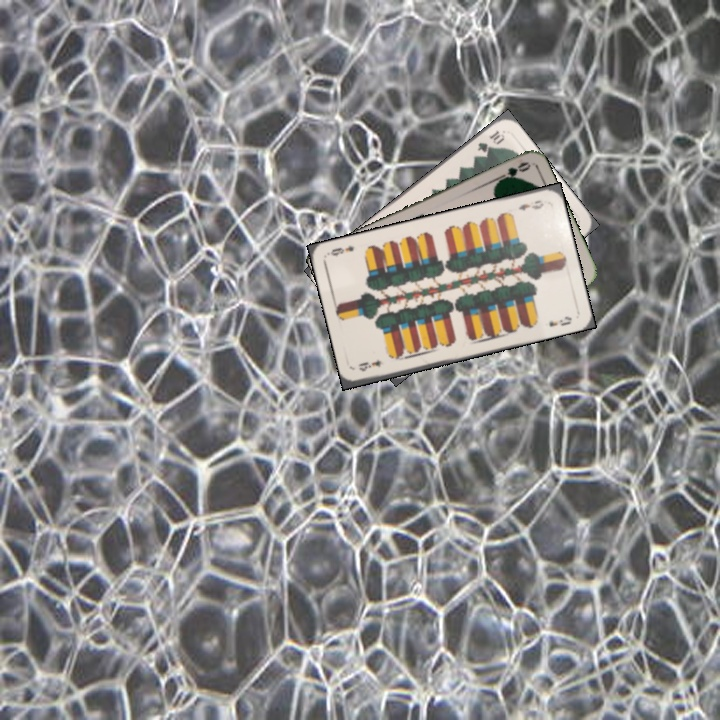E9: (514, 196, 546, 213), (354, 356, 384, 374)
G10: (473, 126, 507, 155)
GO: (493, 158, 532, 185)
